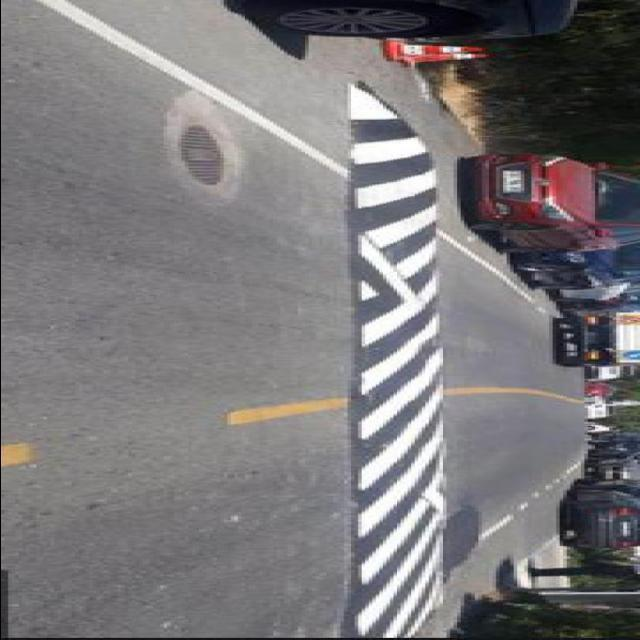Speed_Breaker: (339, 85, 455, 640), (346, 79, 444, 639)
